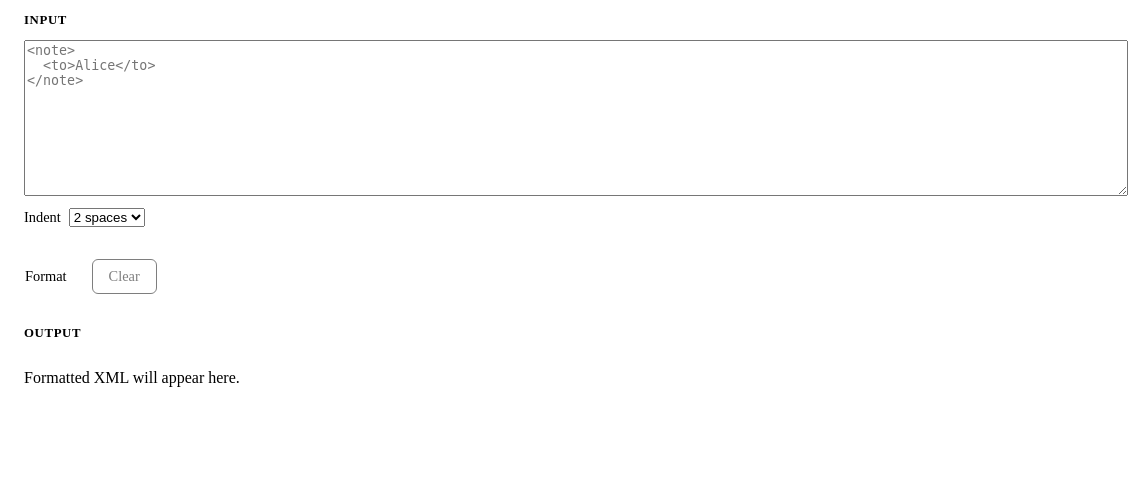
Scenario: XmlFormatterTool › formats XML input on demand
Type "<root><item>one</item><item>two</item></root>" into the text box named "XML input". click: (576, 118)
box: top-left (24, 40), bottom-right (1128, 196)
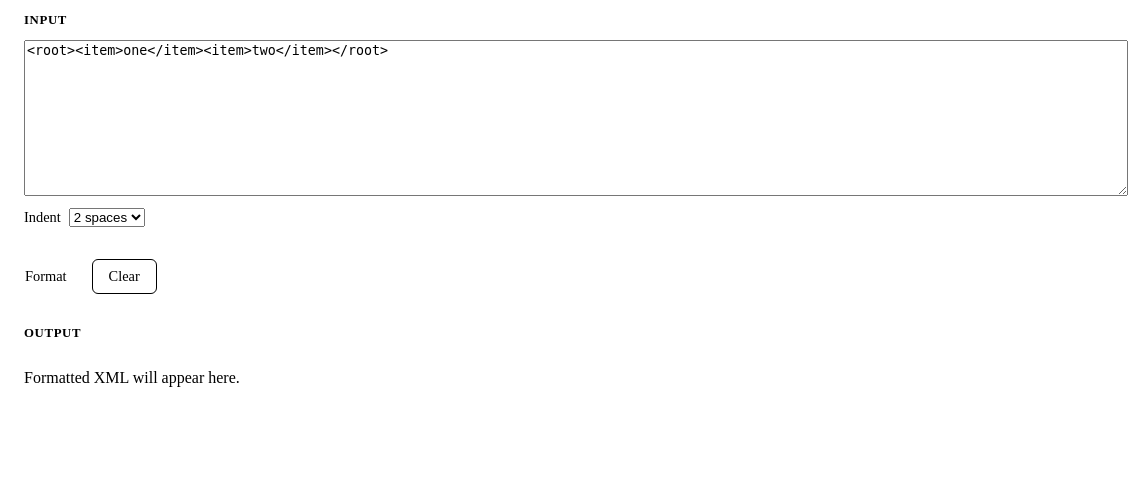
Click the button "Format". click: click(46, 276)
box: top-left (8, 259), bottom-right (84, 294)
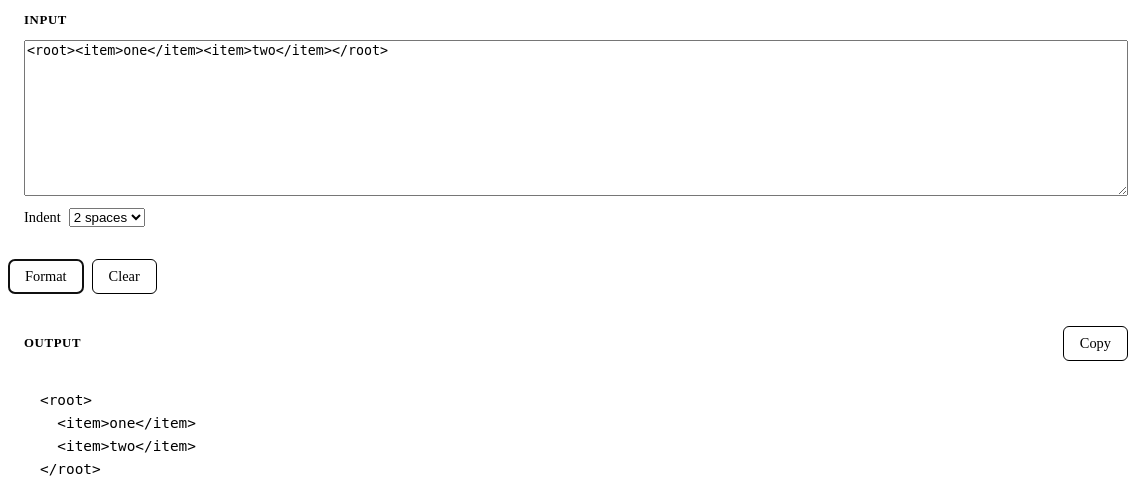
Now the button "Copy" is enabled, box top-left (1063, 326), bottom-right (1128, 361)
